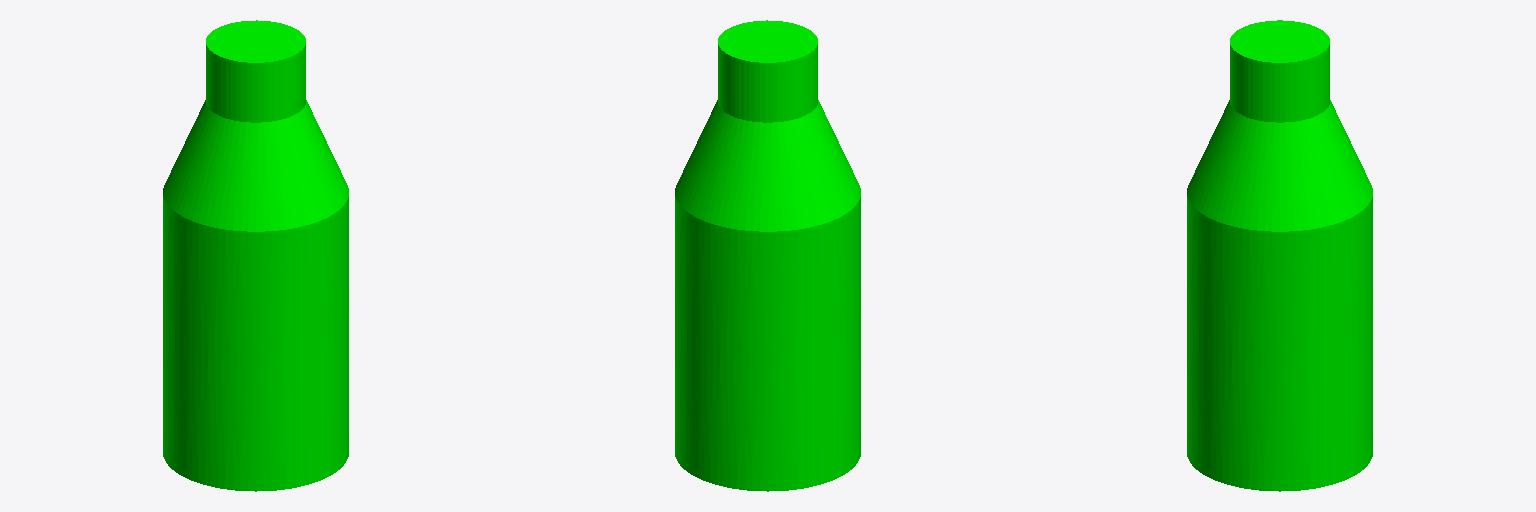
URDF robot description (green_tea):
<?xml version="1.0"?>
<robot name="green_tea">
  <material name="green">
    <color rgba="0 1 0 0.5"/>
  </material>
  <link name="bottle">
    <visual>
      <geometry>
        <mesh filename="package://prostbot_gazebo/meshes/prost_layouts/green_tea.dae"/>
      </geometry>
      <material name="green"/>
    </visual>
    <collision>
      <geometry>
        <mesh filename="package://prostbot_gazebo/meshes/prost_layouts/green_tea.dae"/>
      </geometry>
    </collision>
    <inertial>
      <mass value="1000"/>
      <inertia ixx="1" ixy="0" ixz="0" iyy="1" iyz="0" izz="1"/>
    </inertial>
  </link>
</robot>

--- What the picture shows (computed from the rendered views, not written in the file) ---
3 views of the same robot in one strip: view 1: azimuth 30°, elevation 25°; view 2: azimuth 150°, elevation 25°; view 3: azimuth 270°, elevation 25° (orthographic).
Robot: green_tea — 1 links, 0 joints (none); root link bottle; default pose: all joints at 0.
Links seen in each view (by area): view 1: bottle; view 2: bottle; view 3: bottle.
Link boxes in pixels (x1,y1,x2,y2): bottle: (163, 20, 348, 491); bottle: (675, 20, 860, 491); bottle: (1187, 20, 1372, 491).
Bounding box of the posed robot: 0.065 × 0.065 × 0.158 m (x, y, z).
Meshes: 1 distinct files referenced, 1 mesh visuals loaded (1 Collada DAE).